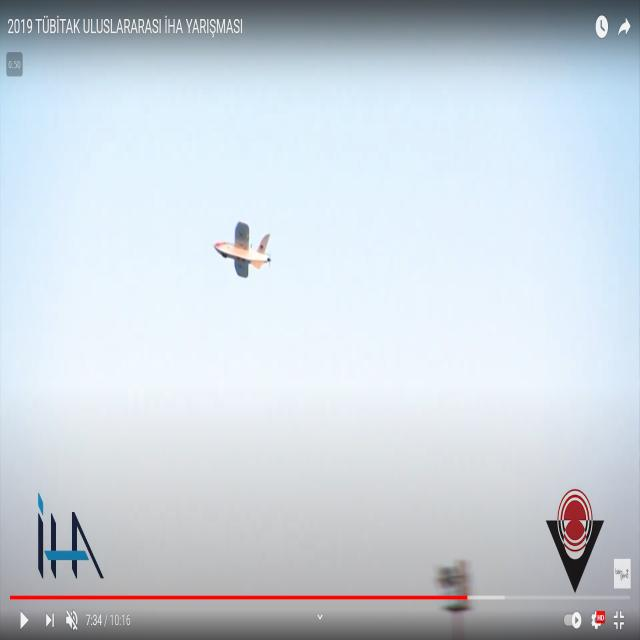iha: (214, 221, 271, 279)
